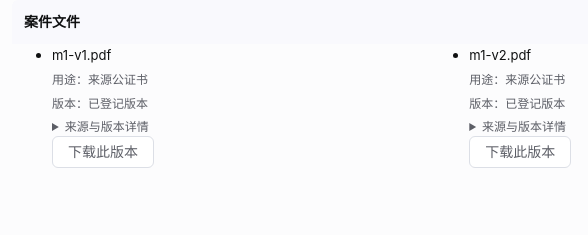
Test: CaseWorkspaceFiles › removes only an inaccessible exact file on 403
Click the button "下载此版本" below "m1-v1.pdf". click: x=103, y=152
box: [52,136,154,168]
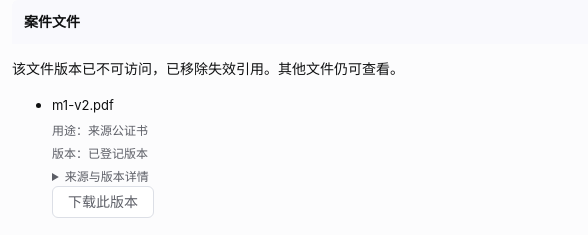
Expected: the text "m1-v2.pdf" is shown, [52,97,114,113]
Now the number of list items with test id "workspace-file" is 1, box [52,97,154,218]
Now the text "已移除失效引用" is shown, box [12,60,404,77]
